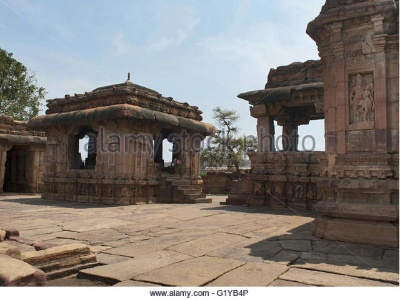mandapa: (39, 83, 214, 185), (239, 54, 342, 158)
